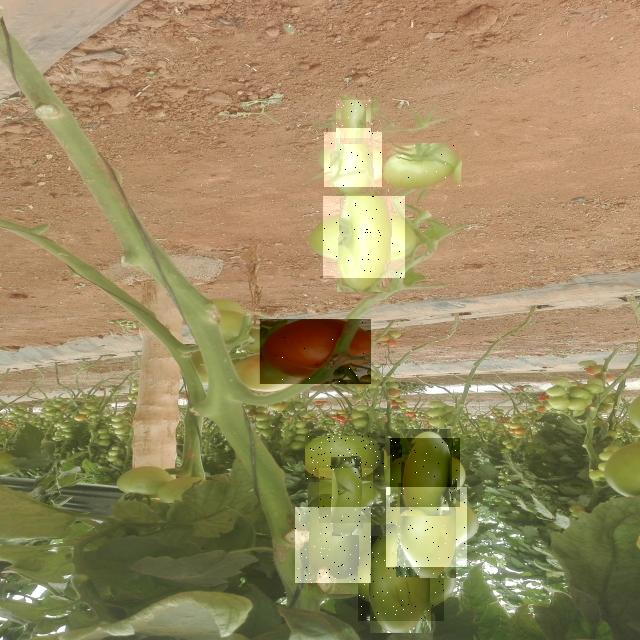Ripe Tomato: (256, 319, 371, 384)
Unripe Tomato: (358, 536, 444, 621), (323, 196, 405, 278), (386, 487, 467, 567), (295, 507, 371, 583), (390, 438, 460, 507), (305, 436, 385, 482), (382, 143, 462, 189), (324, 128, 382, 186), (319, 468, 373, 523), (336, 100, 371, 135)
